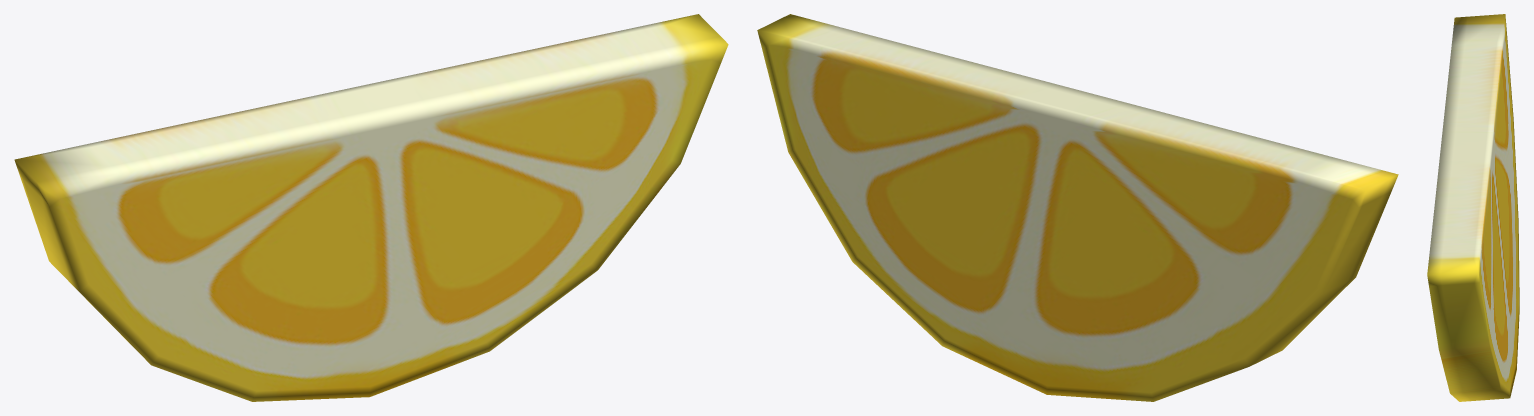
The model's file is yellow_lemon_slice.glb.
The picture shows the model from 3 angles, left to right: view 1: azimuth 30°, elevation 25°; view 2: azimuth 150°, elevation 25°; view 3: azimuth 270°, elevation 25°; orthographic projection. The views are drawn at different scales.
Visible parts, largest first — view 1: yellow_lemon_slice; view 2: yellow_lemon_slice; view 3: yellow_lemon_slice.
Part boxes in pixels (bbox=[...]): yellow_lemon_slice: bbox=[14, 14, 728, 401]; yellow_lemon_slice: bbox=[757, 14, 1398, 401]; yellow_lemon_slice: bbox=[1427, 14, 1519, 401].
Bounding box in the file's own units: 0.7196 × 0.3078 × 0.1103.
Materials: 1 (1 with a texture image).
